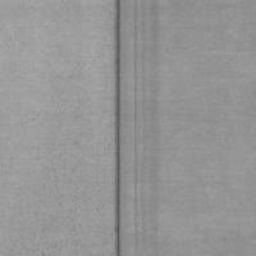Welding line: (113, 0, 123, 256)
